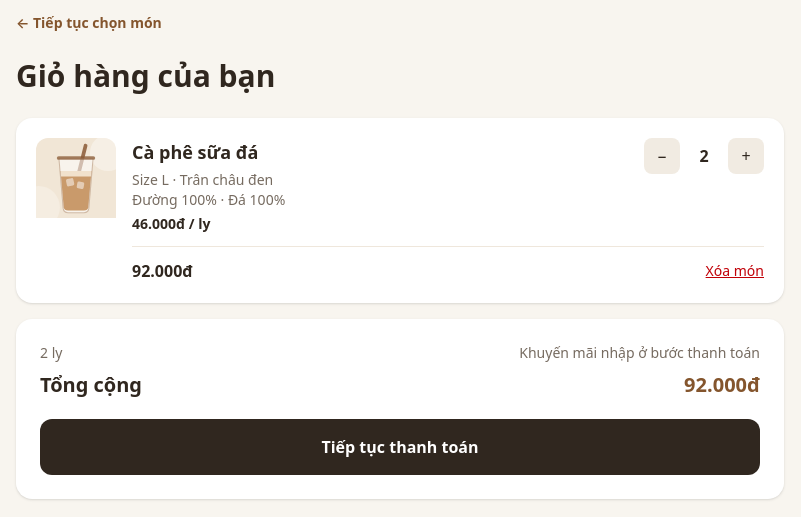
BrewLite - Gio hang Task 5 › tang giam so luong va cap nhat tong tien
Expected: the heading "Cà phê sữa đá" is shown, left=132, top=140, right=258, bottom=164
Click the button "+" at [746, 156], box left=728, top=138, right=764, bottom=174
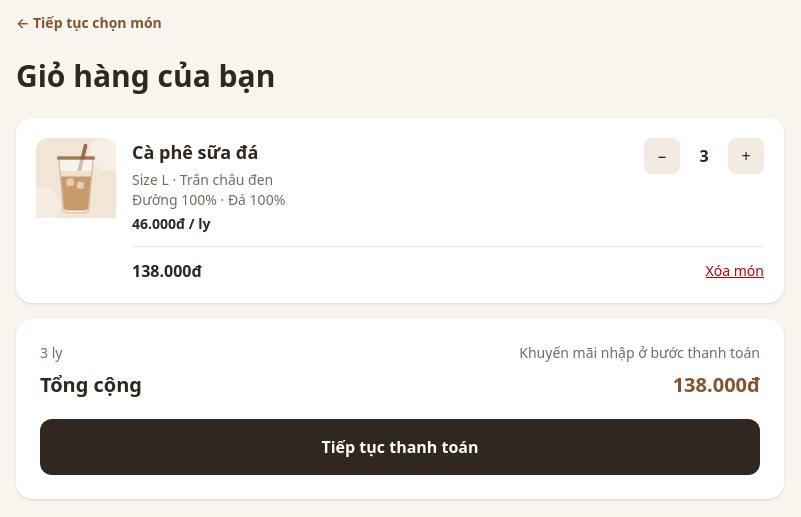
Expected: the text "138.000đ" below "46.000đ" is shown, left=132, top=260, right=202, bottom=282
Click the button "−" at [662, 156], box left=644, top=138, right=680, bottom=174
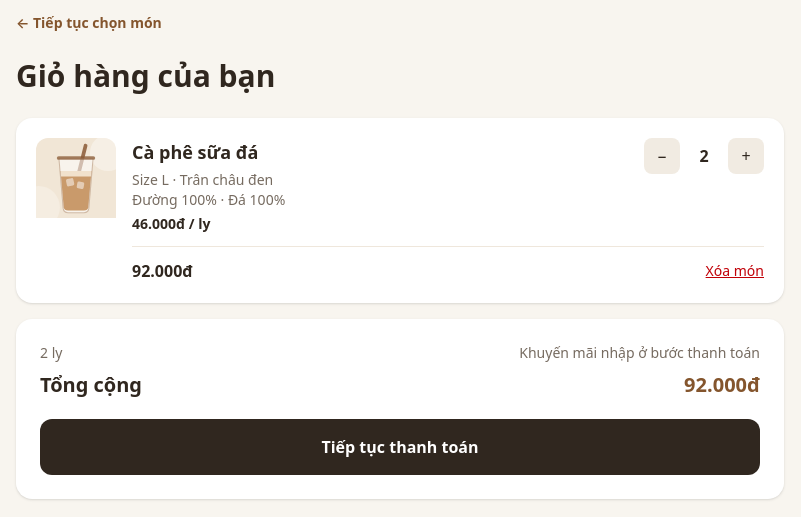
Expected: the text "92.000đ" below "46.000đ" is shown, left=132, top=260, right=193, bottom=282
